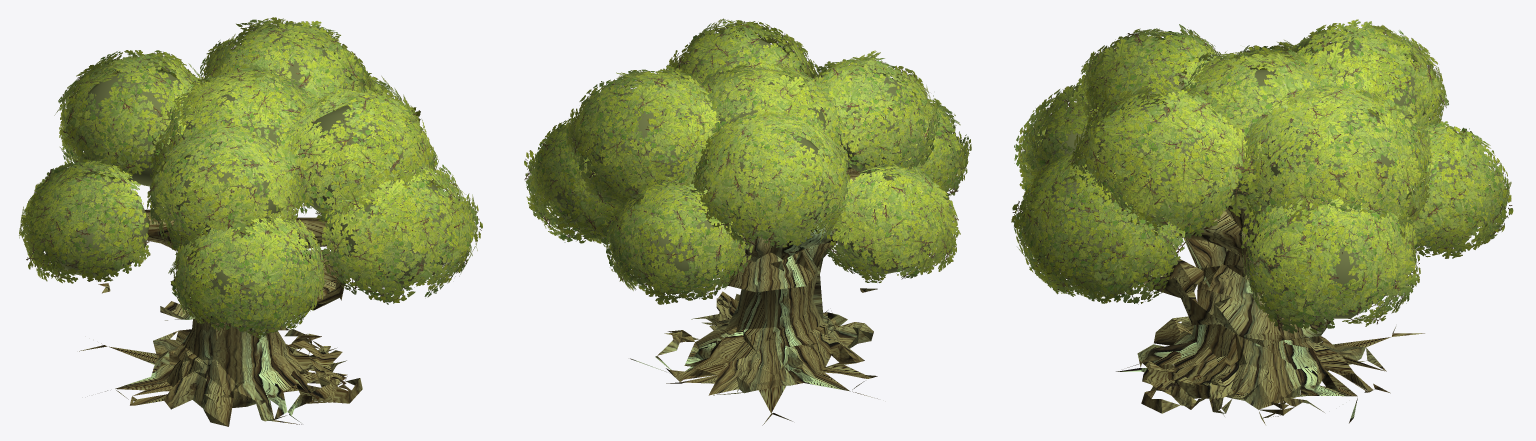
Rendered from tree_oak_3.glb.
3 views of the same model, side by side, from view 1: azimuth 30°, elevation 25°; view 2: azimuth 150°, elevation 25°; view 3: azimuth 270°, elevation 25° (orthographic). The views are drawn at different scales.
Parts seen in each view (by area): view 1: Leaves, Trunk, CrownCore; view 2: Leaves, Trunk, CrownCore; view 3: Leaves, Trunk, CrownCore.
Part boxes in pixels (left/top/right/bottom): Leaves: left=19, top=17, right=482, bottom=338; Trunk: left=79, top=209, right=362, bottom=426; CrownCore: left=41, top=38, right=452, bottom=324; Leaves: left=524, top=18, right=971, bottom=304; Trunk: left=630, top=167, right=877, bottom=425; CrownCore: left=550, top=35, right=947, bottom=290; Leaves: left=1011, top=19, right=1513, bottom=333; Trunk: left=1116, top=205, right=1424, bottom=424; CrownCore: left=1041, top=41, right=1490, bottom=318.
Size of the model in its own units: 6.61 by 4.57 by 6.49.
3 materials, 2 textured.
